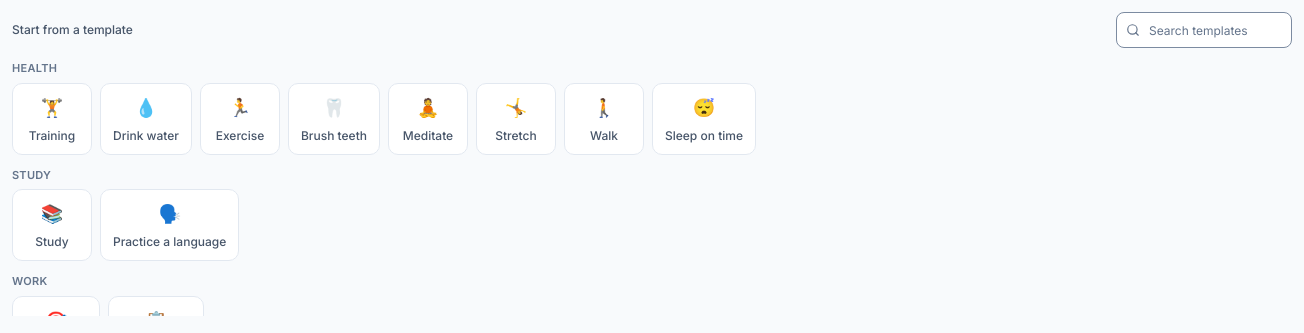
Scenario: HabitTemplateSelector › filters templates by description
The width and height of the screenshot is (1304, 333).
Type "grateful" into the search field labelled "Search templates" at (1204, 30), box [1116,12,1292,48]
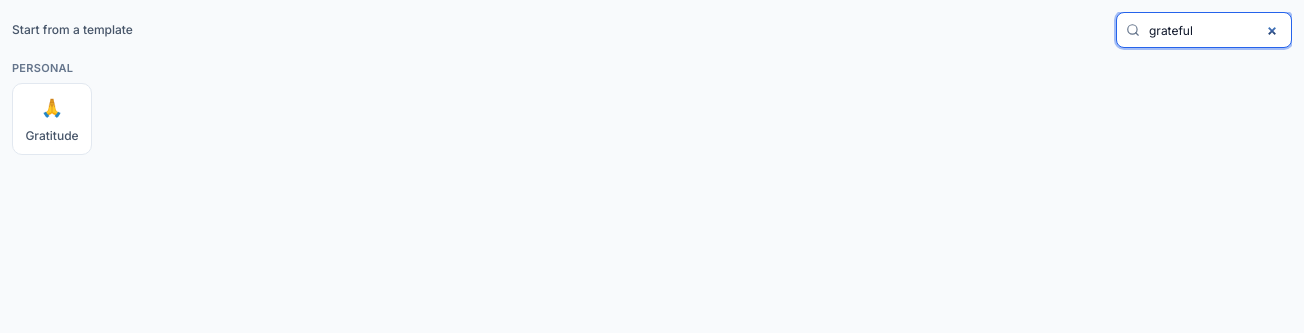
Expected: the button "🙏 Gratitude" is shown, [12,82,92,154]
Expected: the text "Study" is gone
